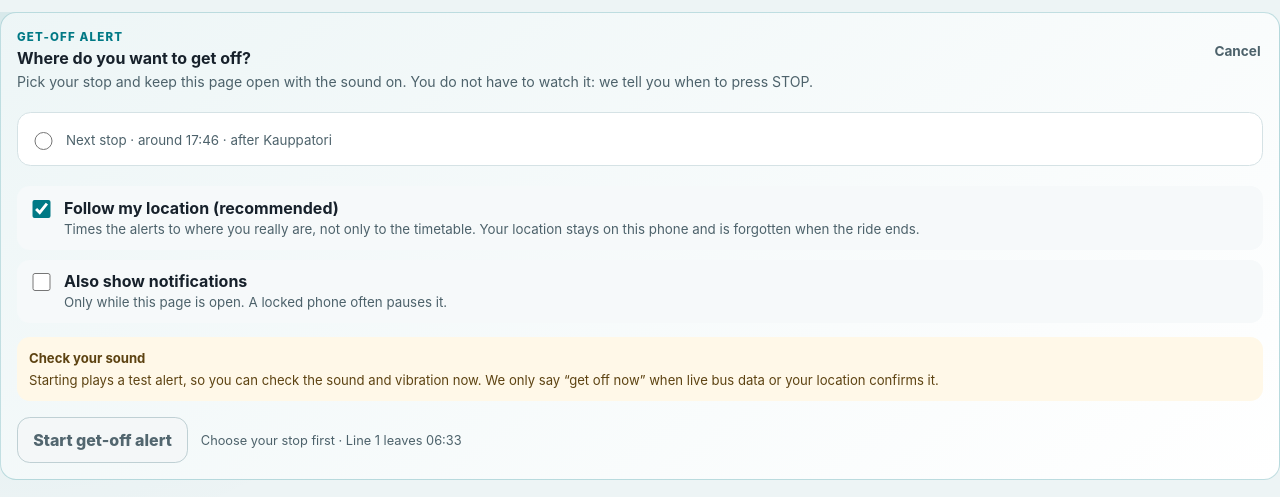
says what to do while there is no stop to start for
Expected: the button "Start get-off alert" is disabled, x1=17 y1=417 x2=188 y2=463
Expected: the text "Choose your stop first · Line 1 leaves 06:33" is shown, x1=201 y1=433 x2=462 y2=448
Click the radio button showing "2": (43, 141) x1=34 y1=132 x2=53 y2=150
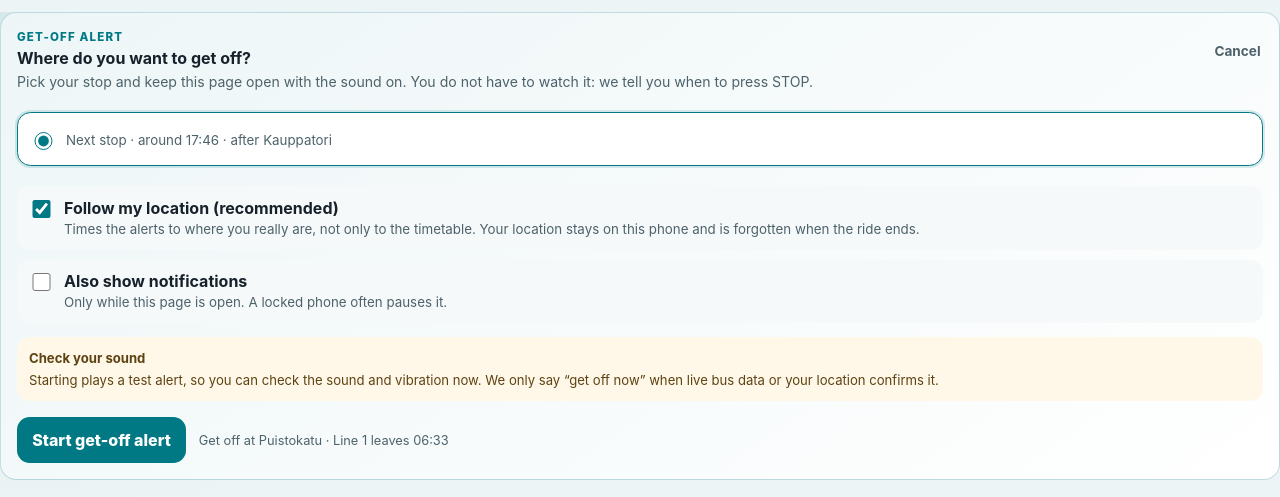
Expected: the button "Start get-off alert" is enabled, x1=17 y1=417 x2=186 y2=463
Expected: the text "Choose your stop first" is gone
Expected: the text "Get off at Puistokatu · Line 1 leaves 06:33" is shown, x1=199 y1=433 x2=449 y2=448
